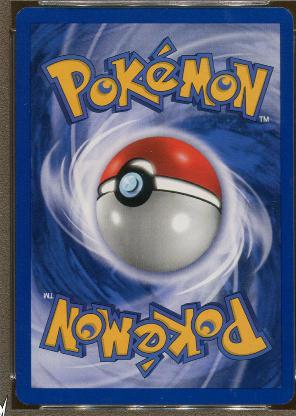Card: (12, 5, 294, 407)
Corner Wear: (14, 388, 29, 406), (15, 6, 28, 18), (283, 8, 291, 18)
Scratch: (226, 385, 237, 397), (224, 376, 236, 382), (22, 102, 28, 106), (269, 200, 275, 204)
